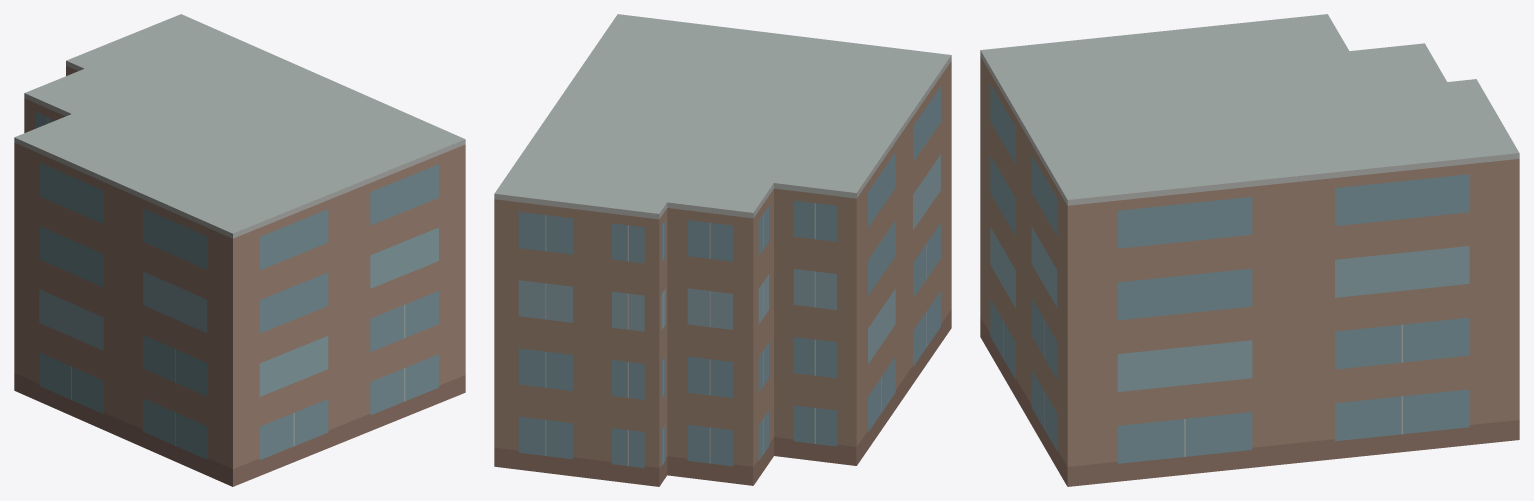
File: residential-21c24815-f105-4093-aa82-1b79422516af.glb
3 renders of one model, left to right at view 1: azimuth 30°, elevation 25°; view 2: azimuth 150°, elevation 25°; view 3: azimuth 270°, elevation 25°, orthographic. The views are drawn at different scales.
Visible parts, largest first — view 1: residential-21c24815-f105-4093-aa82-1b79422516af.tmp; view 2: residential-21c24815-f105-4093-aa82-1b79422516af.tmp; view 3: residential-21c24815-f105-4093-aa82-1b79422516af.tmp.
Boxes of the visible parts, <box> form: residential-21c24815-f105-4093-aa82-1b79422516af.tmp: <box>14,14,465,486</box>; residential-21c24815-f105-4093-aa82-1b79422516af.tmp: <box>494,14,951,486</box>; residential-21c24815-f105-4093-aa82-1b79422516af.tmp: <box>980,14,1519,486</box>.
Size of the model in its own units: 16.98 by 12.2 by 20.8.
